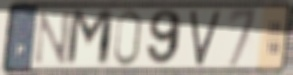0: (113, 7, 143, 69)
7: (226, 6, 260, 70)
9: (146, 7, 186, 68)
M: (64, 8, 116, 69)
N: (31, 9, 73, 67)
V: (188, 8, 224, 68)
